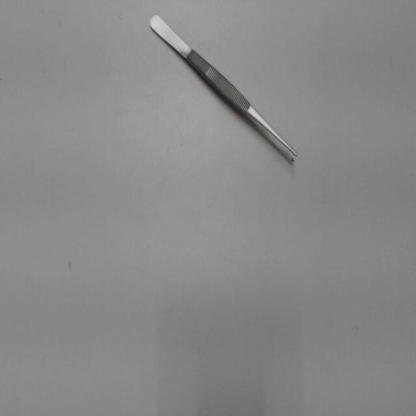Gillies Toothed Dissector: (141, 1, 304, 174)
